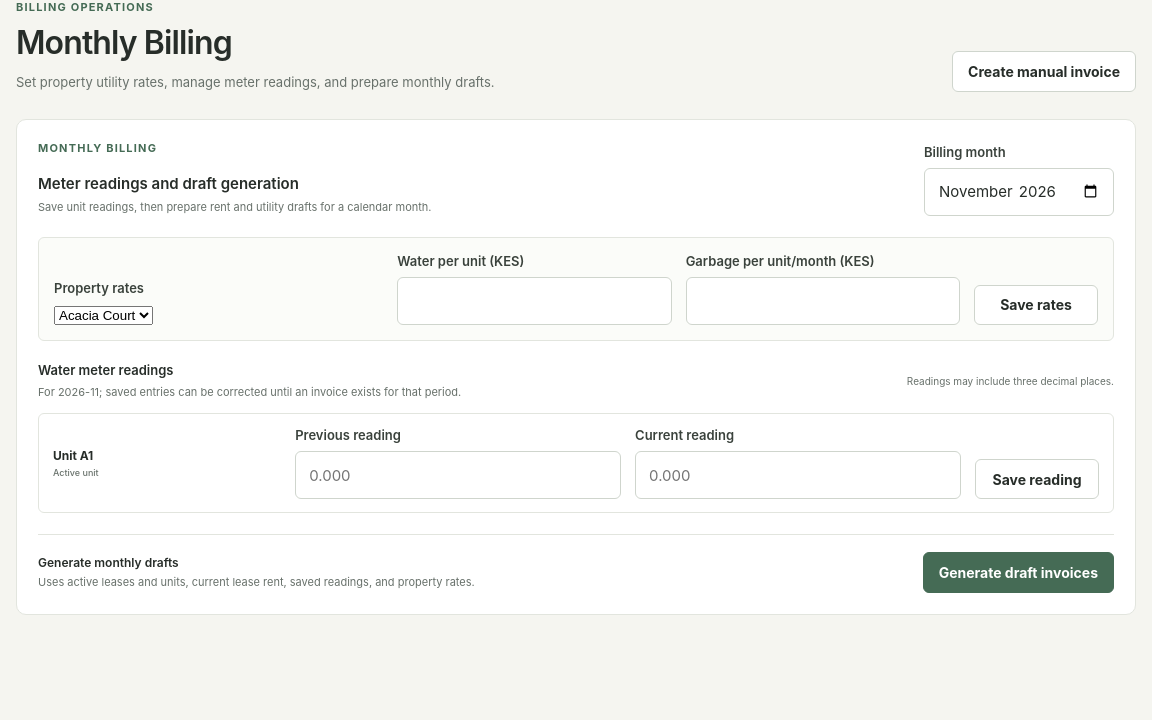
Test: MonthlyBillingPage › reports the number of units requiring readings and explains their reasons
The image size is (1152, 720).
Expected: the field labelled "Current reading" is shown, x1=635 y1=451 x2=961 y2=499
What coordinates should you click on to do the following:
click the button "Generate draft invoices"
I would click on:
 (1018, 573)
Its box is x1=923 y1=552 x2=1114 y2=593.
(page scrolled)
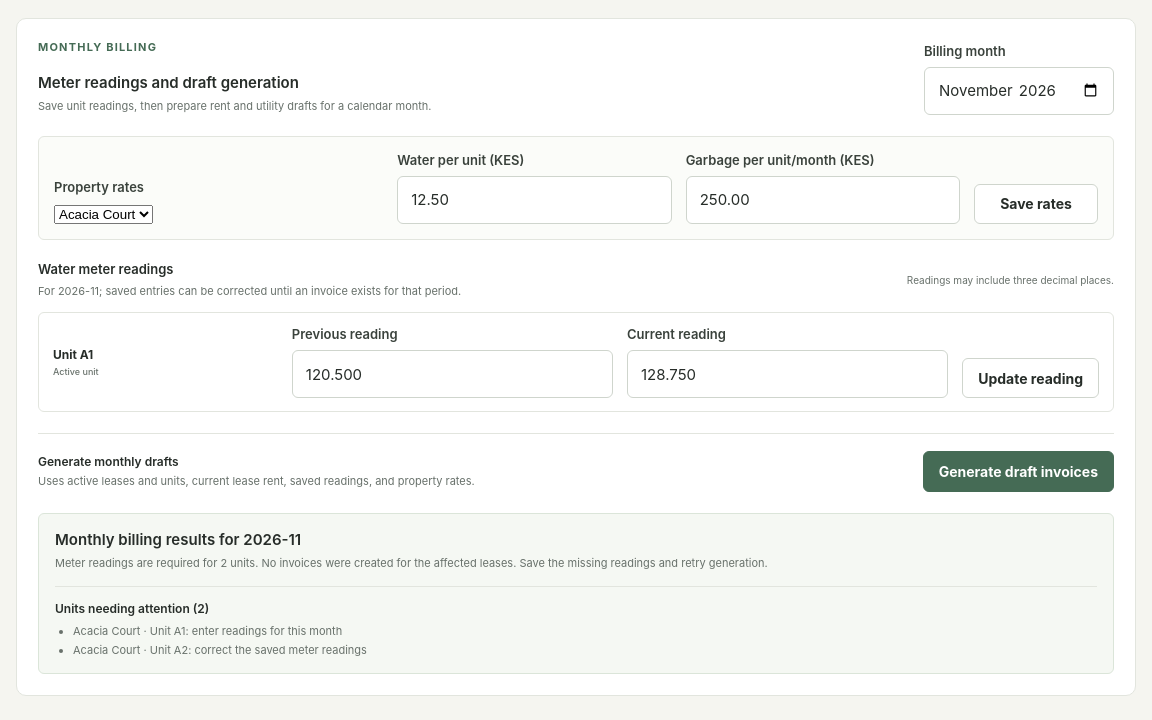
Result: the text "Save the missing readings and retry generation." is shown at x1=55 y1=556 x2=768 y2=570
Result: the list item "Acacia Court · Unit A1: enter readings for this month" is shown at x1=73 y1=624 x2=342 y2=638
Result: the list item "Acacia Court · Unit A2: correct the saved meter readings" is shown at x1=73 y1=643 x2=367 y2=657
